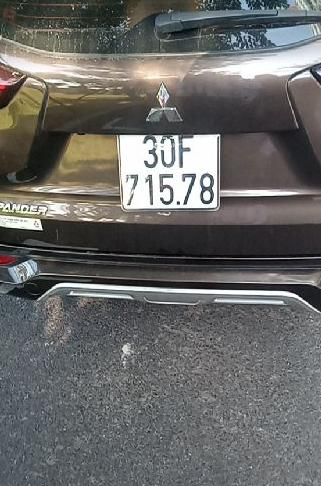Plate-iWeP: (116, 127, 223, 214)
